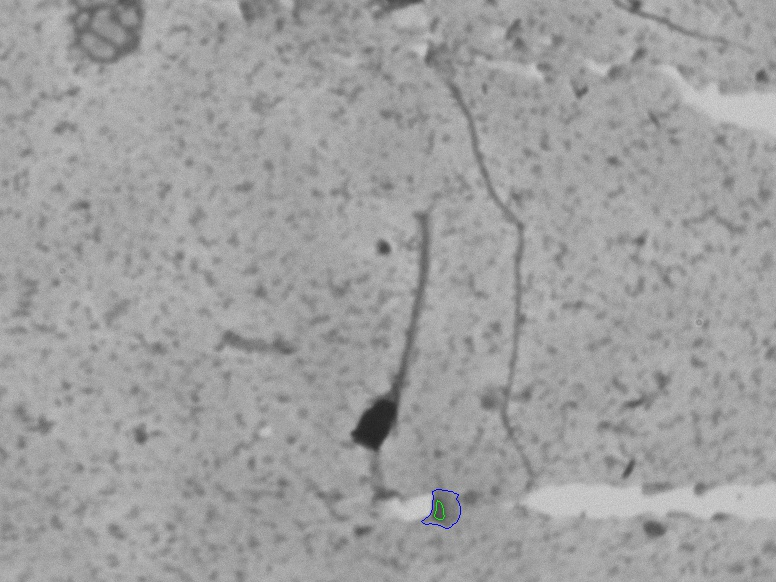Abnormal: (318, 200, 454, 474)
